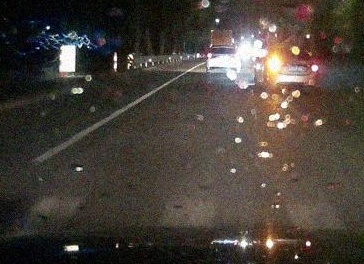L_light: (269, 57, 282, 70)
R_light: (311, 64, 318, 72)
T_light: (288, 49, 299, 51)
night-left: (268, 43, 319, 94)
